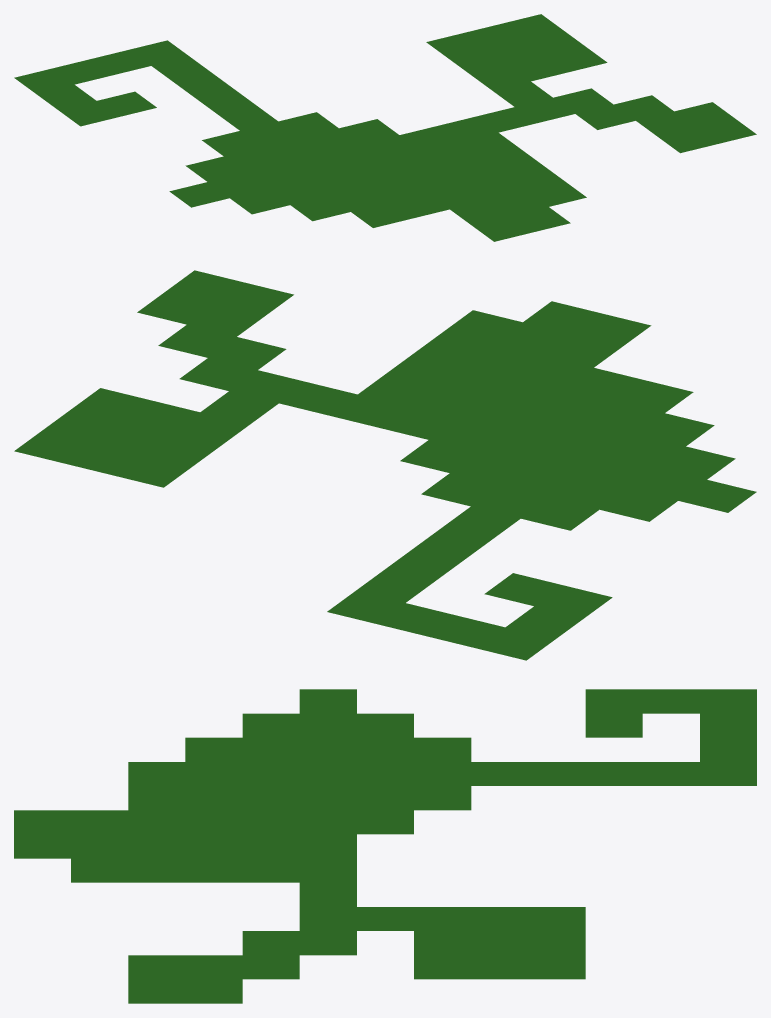
The model's file is world_0_nav.glb.
3 views of the same model, one above another, from view 1: azimuth 30°, elevation 25°; view 2: azimuth 150°, elevation 25°; view 3: azimuth 270°, elevation 25° (orthographic). The views are drawn at different scales.
Parts seen in each view (by area): view 1: ground; view 2: ground; view 3: ground.
Boxes of the visible parts, x1=… form: ground: x1=14, y1=14, x2=756, y2=241; ground: x1=14, y1=270, x2=756, y2=660; ground: x1=14, y1=689, x2=756, y2=1003.
Bounding box in the file's own units: 26 × 0 × 26.
